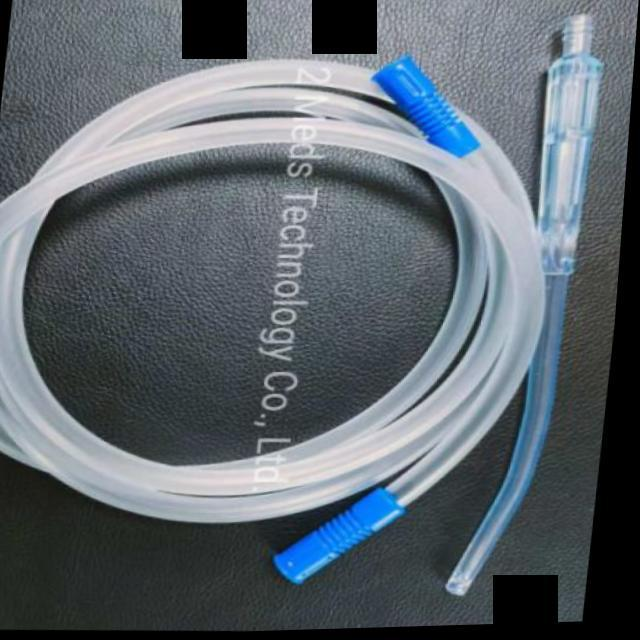Suction Tube Nozzle: (0, 0, 626, 618)
